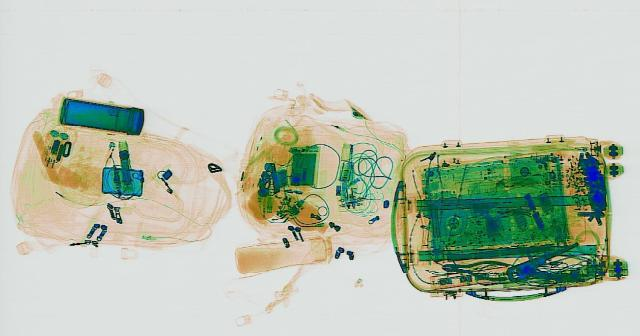Pliers: (494, 241, 604, 288), (438, 256, 512, 279)
